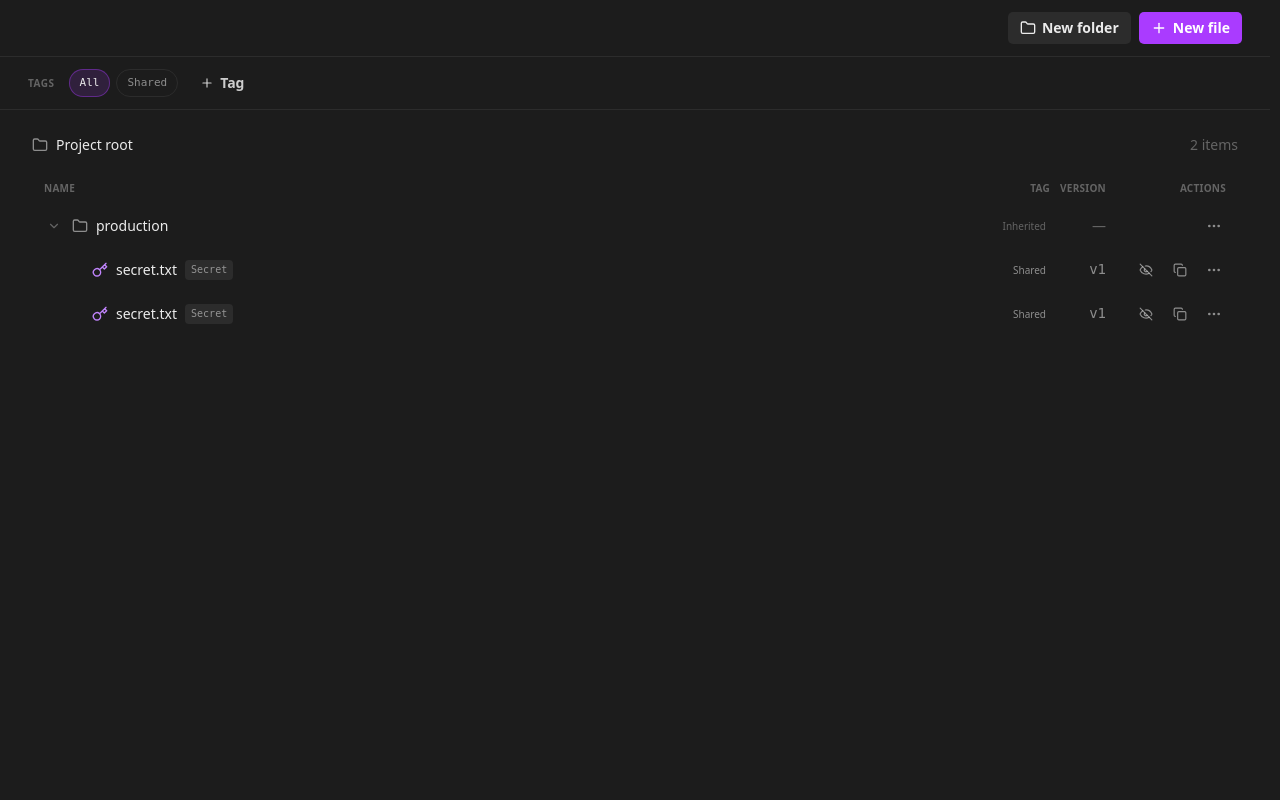
it: ProjectFilesPanel › clears a failed copy error after a later copy succeeds
The width and height of the screenshot is (1280, 800).
Click the 1st button named "Reveal secret.txt": (1146, 270) [1130,254,1162,286]
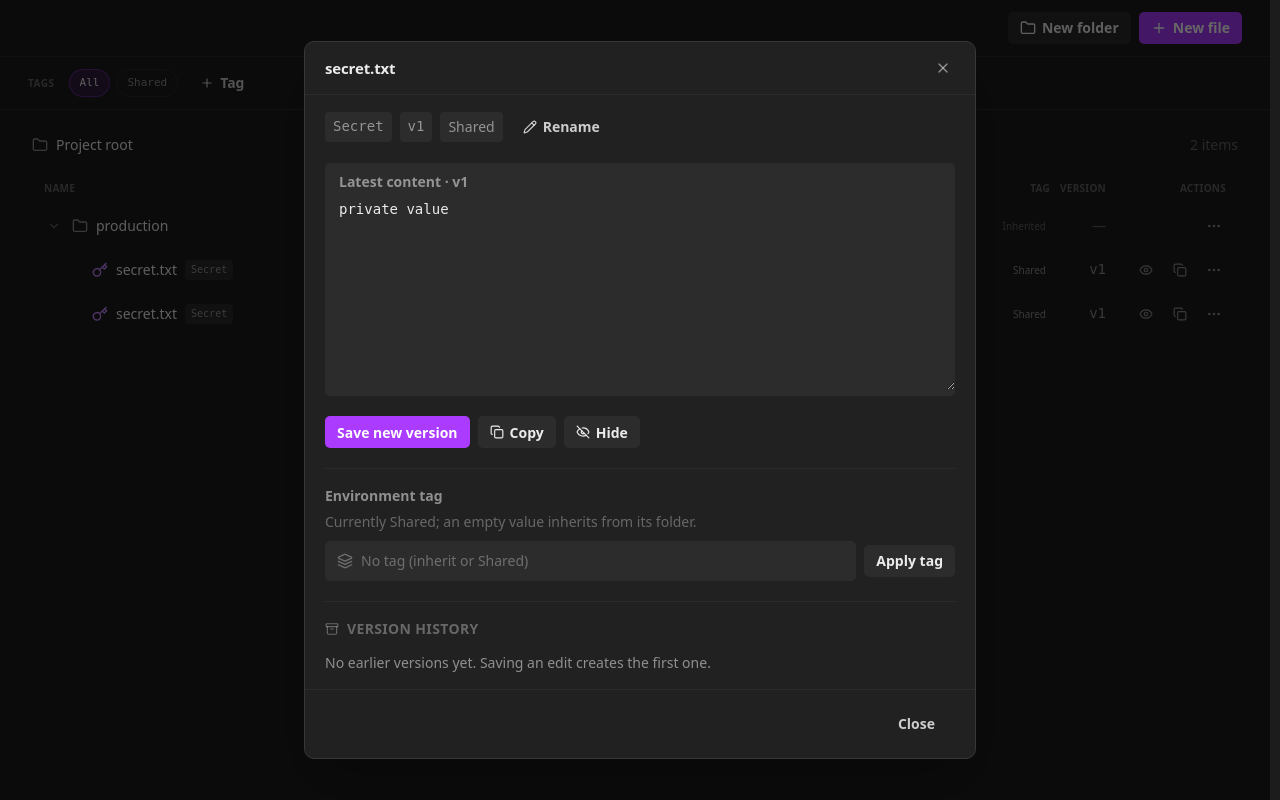
Check: the text box labelled "Latest content · v1" holds "private value", box [325,194,955,390]
Click the button "Copy": (517, 432) [478,416,556,448]
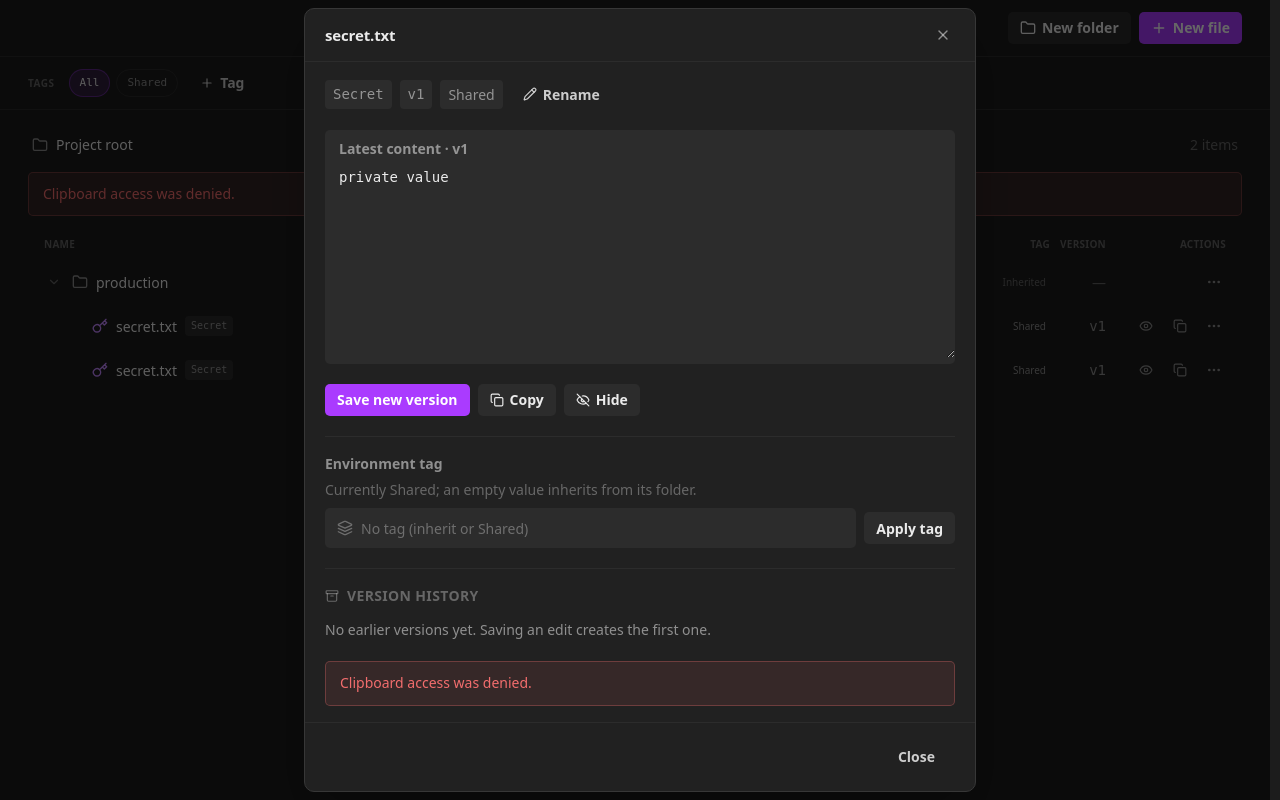
Check: the text "Clipboard access was denied." is shown, box [28,172,1242,216]
Click the button "Copy": (517, 400) [478,384,556,416]
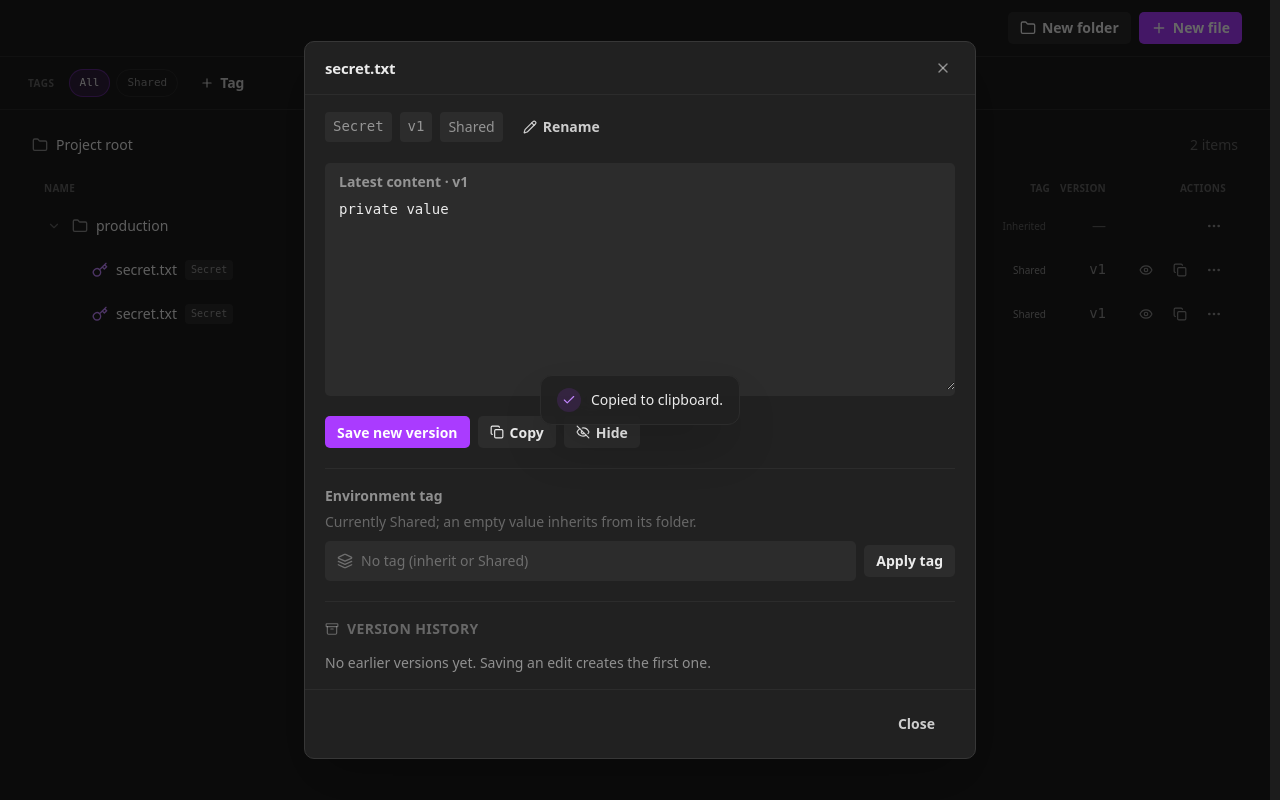
Check: the text "Clipboard access was denied." is gone
